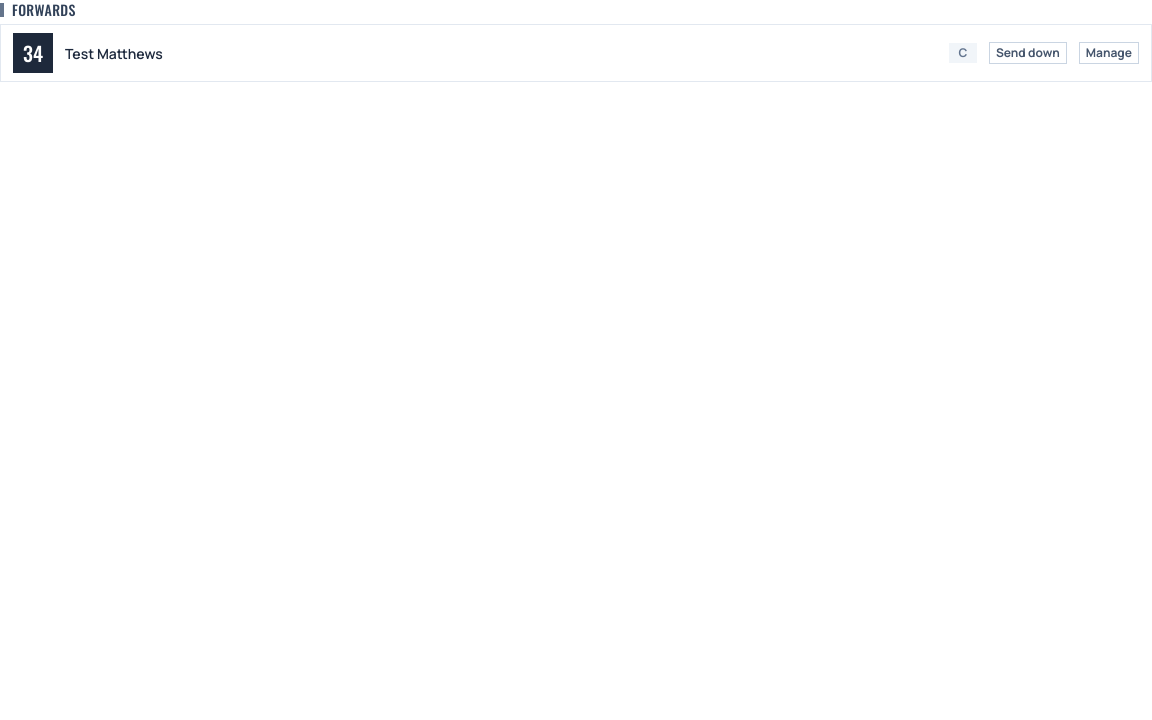
Test: RosterList › lets the team's GM send a player down to an affiliate
Step 1. Click the button "Send down" → point(1028, 53), box [989,42,1067,64]
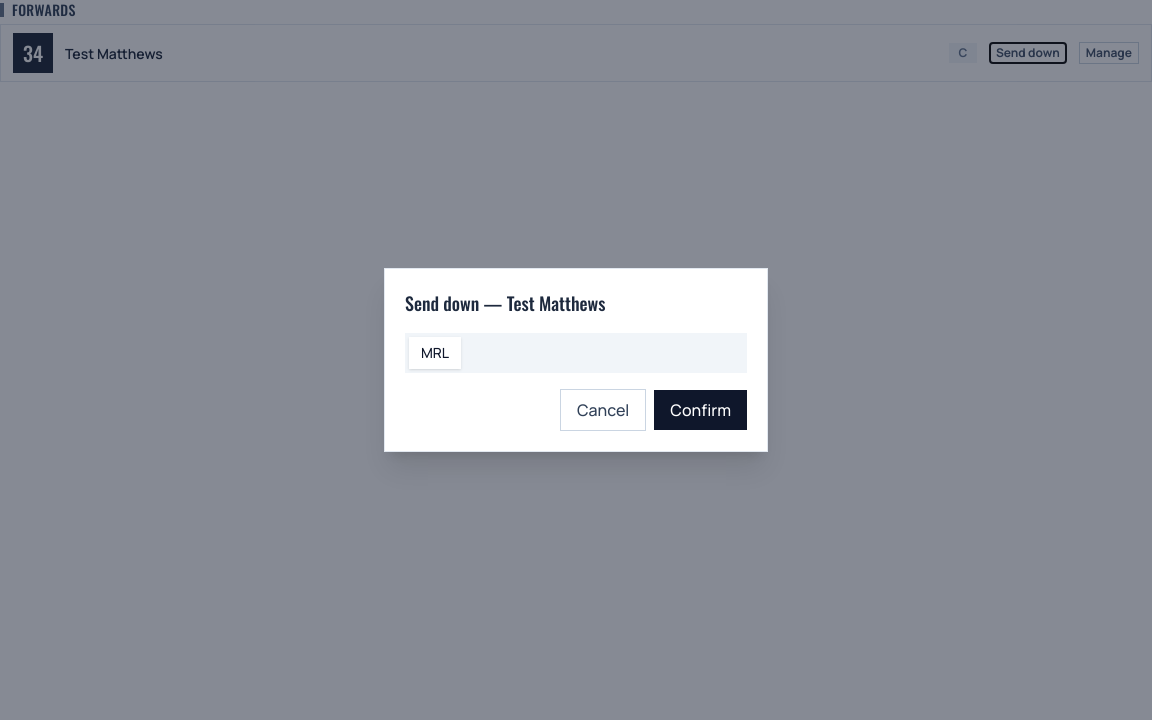
Step 2. Click the button "Confirm" → point(701, 410), box [654,390,747,430]
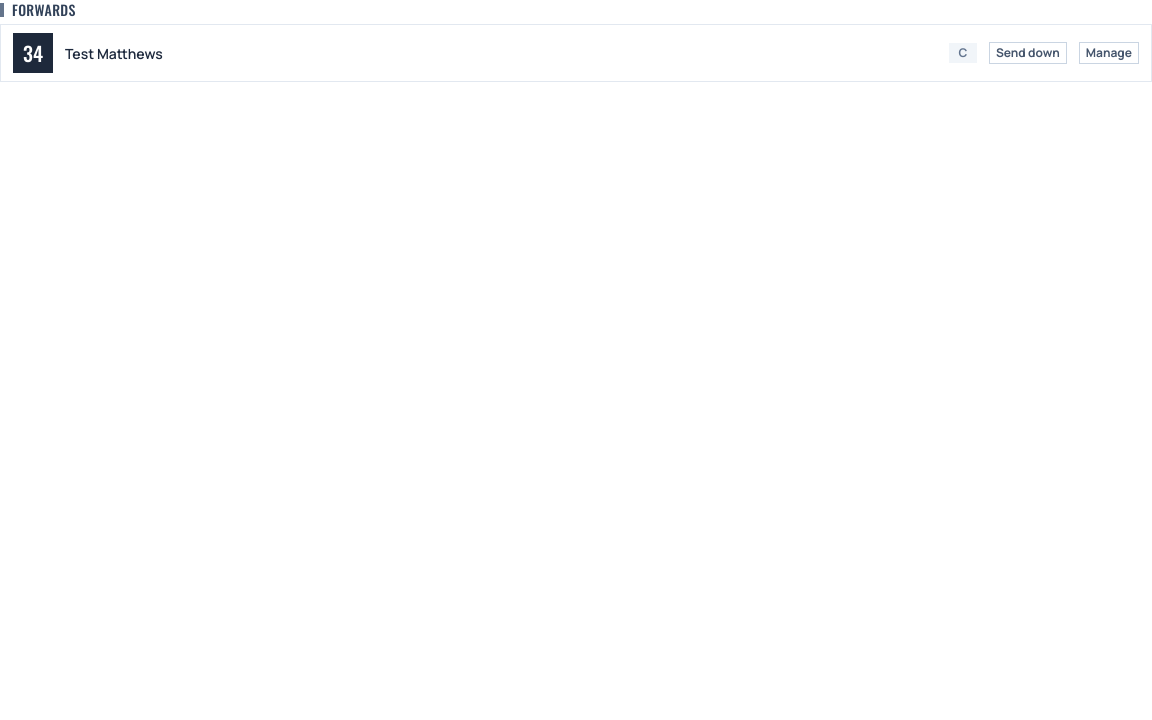
Expected: the dialog is gone
